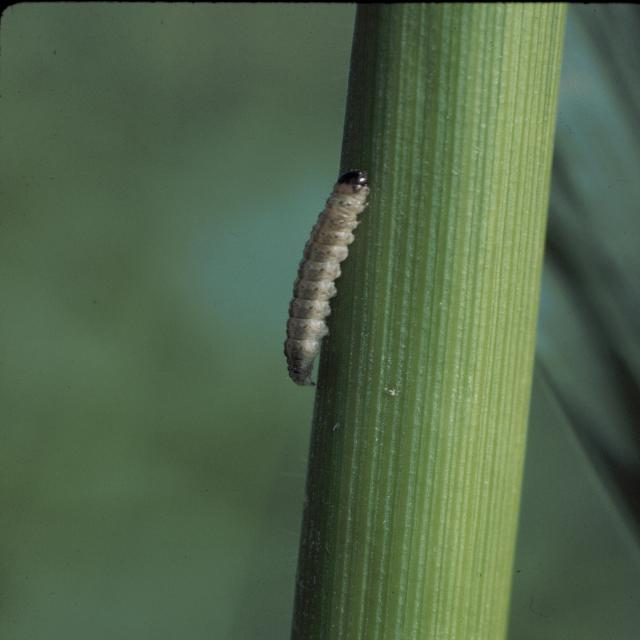cornborer-Larva-: (261, 162, 377, 396)
